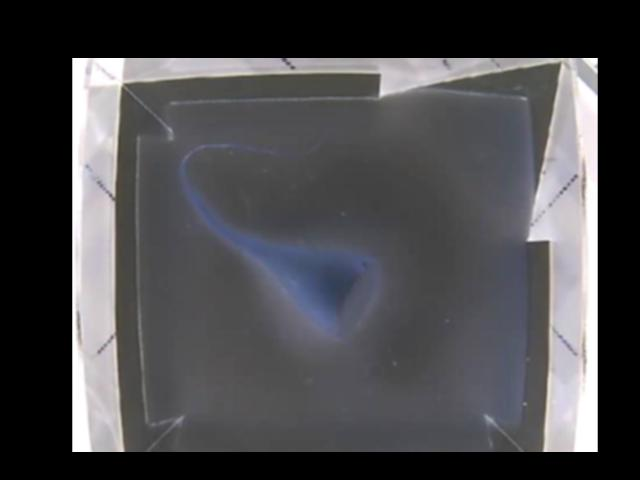Mooli: (229, 234, 380, 338)
